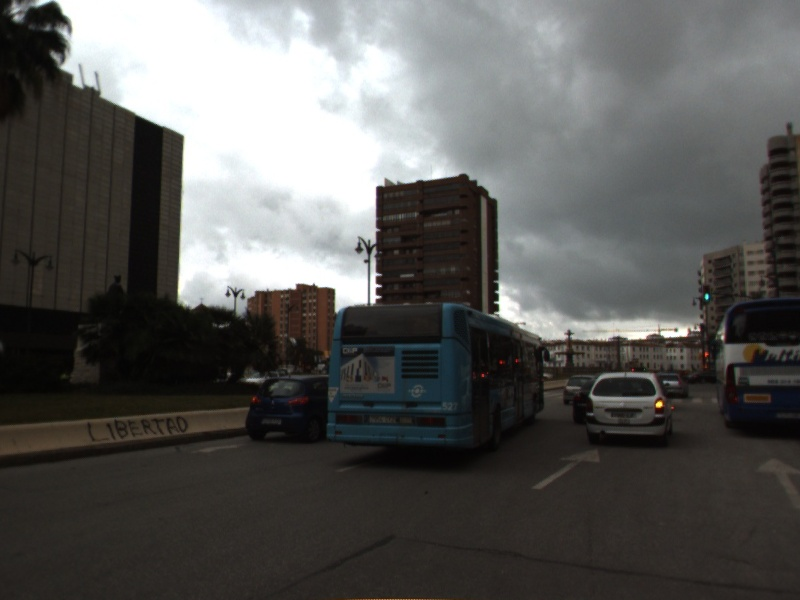STRAIGHT: (529, 446, 602, 492), (753, 456, 800, 510)
